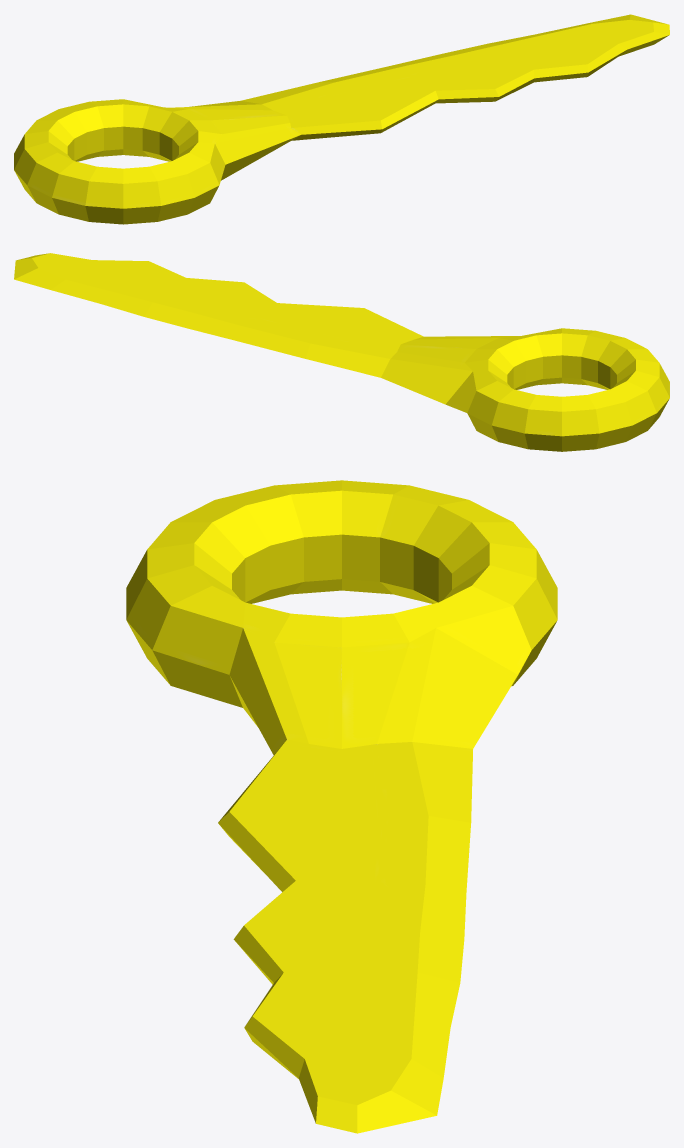
The model's file is JBayer_Key.fbx.
The picture shows the model from 3 angles, top to bottom: view 1: azimuth 30°, elevation 25°; view 2: azimuth 150°, elevation 25°; view 3: azimuth 270°, elevation 25°; orthographic projection. The views are drawn at different scales.
Visible parts, largest first — view 1: Torus.001; view 2: Torus.001; view 3: Torus.001.
Part boxes in pixels (box(x1,y1,x2,y2)): Torus.001: box(14, 14, 669, 224); Torus.001: box(14, 253, 669, 451); Torus.001: box(126, 480, 557, 1133).
Size of the model in its own units: 33.36 by 2.5 by 9.78.
1 material, 1 textured.
